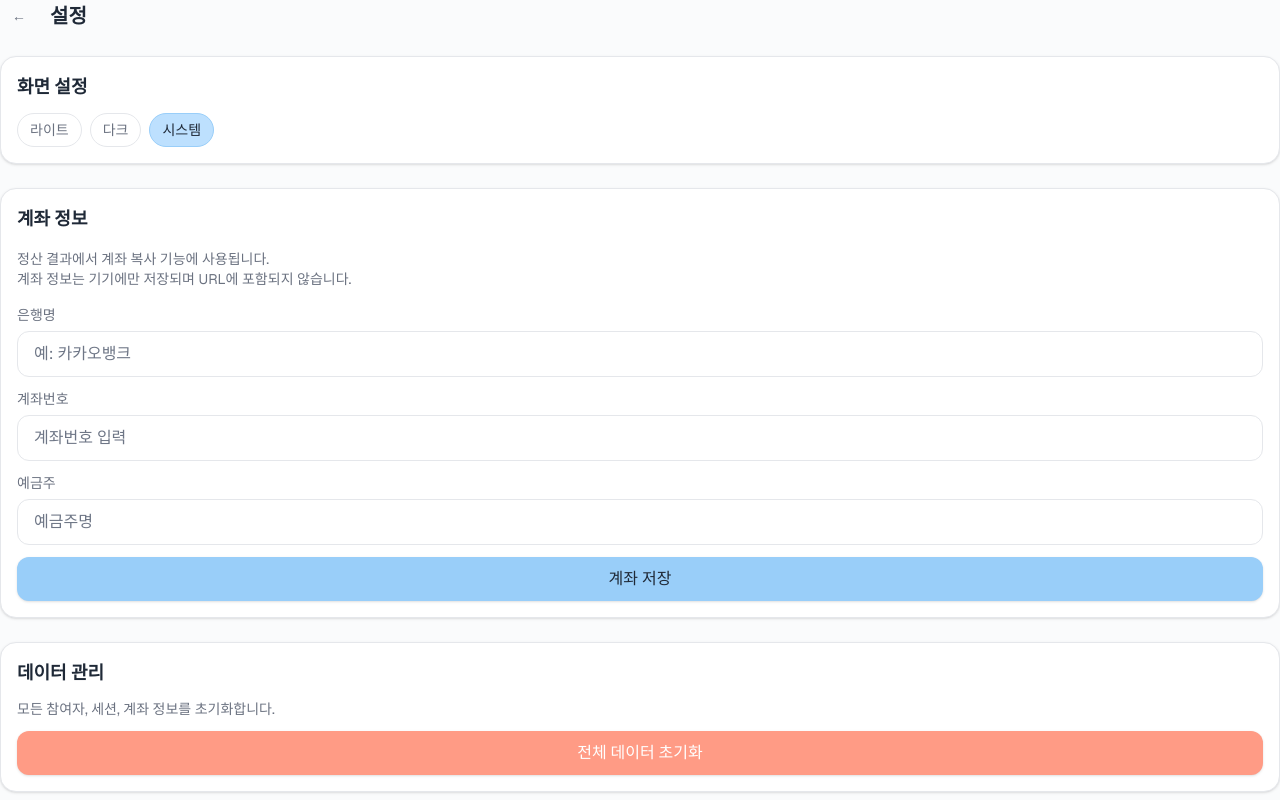
it: SettingsPage - 전체 초기화 › 초기화 버튼 클릭 시 확인 모달
Click the button "전체 데이터 초기화" at [640, 753], box top-left (17, 731), bottom-right (1263, 775)
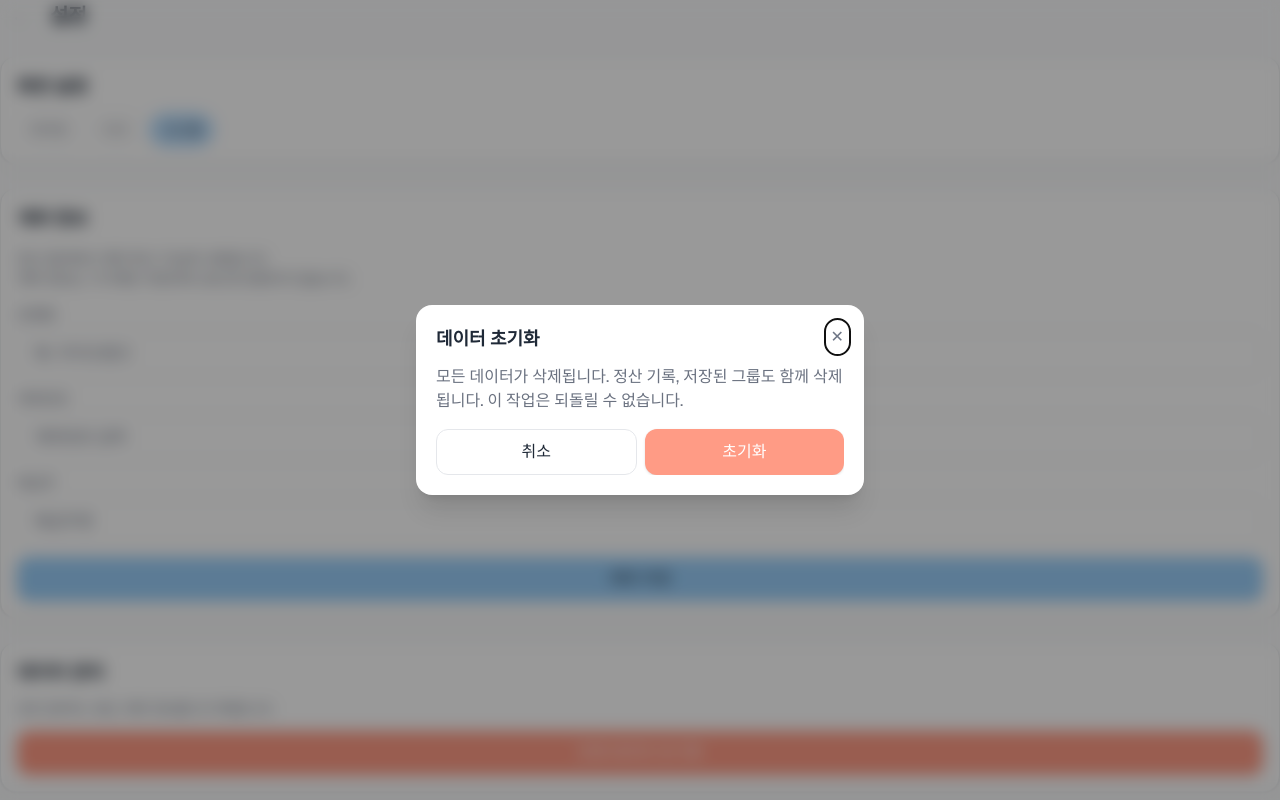
Now the heading "데이터 초기화" is shown, box top-left (436, 327), bottom-right (540, 350)
Now the text "모든 데이터가 삭제됩니다. 정산 기록, 저장된 그룹도 함께 삭제됩니다. 이 작업은 되돌릴 수 없습니다." is shown, box top-left (436, 365), bottom-right (844, 413)
